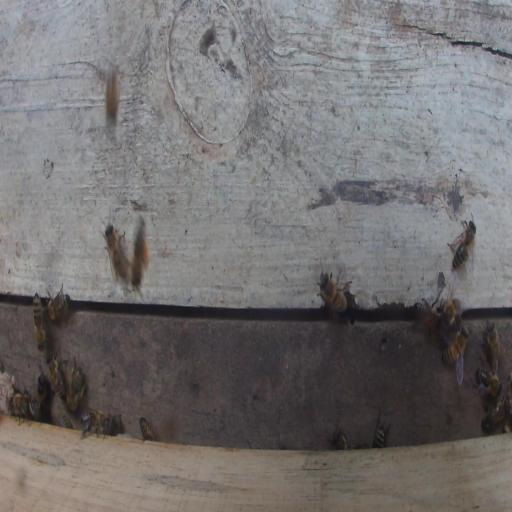nonpollenbee: (318, 269, 352, 319), (447, 218, 477, 272), (103, 222, 130, 282), (442, 325, 470, 365), (80, 409, 114, 438), (105, 58, 119, 128), (417, 298, 441, 335), (33, 290, 47, 353), (475, 366, 502, 398), (482, 399, 508, 432), (486, 321, 502, 373), (46, 351, 64, 397), (440, 297, 462, 329), (47, 293, 70, 322), (372, 417, 391, 448), (9, 392, 28, 417), (37, 376, 47, 422), (330, 426, 349, 450), (139, 416, 155, 441), (60, 414, 74, 429)
pollenbee: (128, 209, 151, 290), (67, 367, 84, 414)
